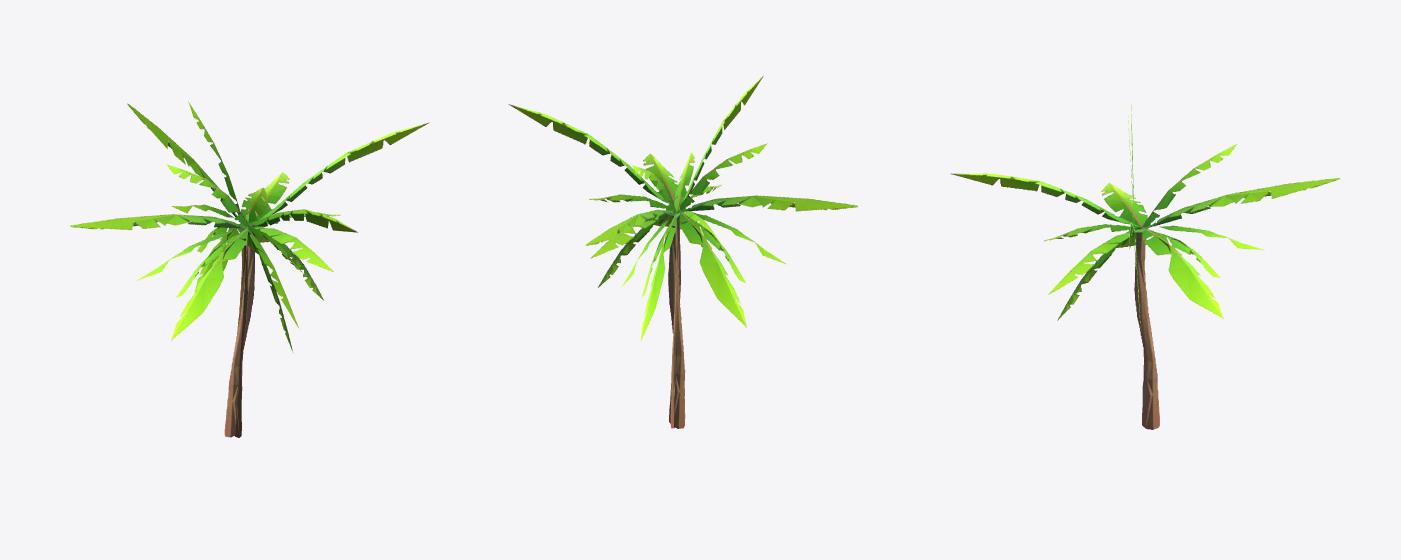
3 views of the same model, side by side, from view 1: azimuth 30°, elevation 25°; view 2: azimuth 150°, elevation 25°; view 3: azimuth 270°, elevation 25° (orthographic). The views are drawn at different scales.
Visible parts, largest first — view 1: Palm1Far; view 2: Palm1Far; view 3: Palm1Far.
Boxes of the visible parts, box(x1,y1,x2,y2) form: Palm1Far: box(70, 101, 429, 437); Palm1Far: box(508, 76, 857, 428); Palm1Far: box(950, 105, 1339, 429).
Size of the model in its own units: 14.67 by 12.06 by 14.64.
1 material, 1 textured.
